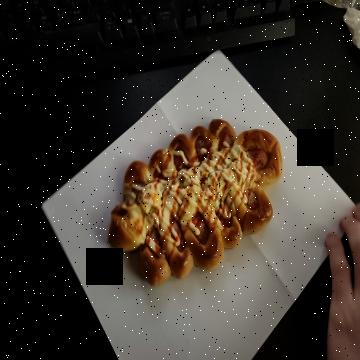pizza_bread: (109, 121, 281, 284)
